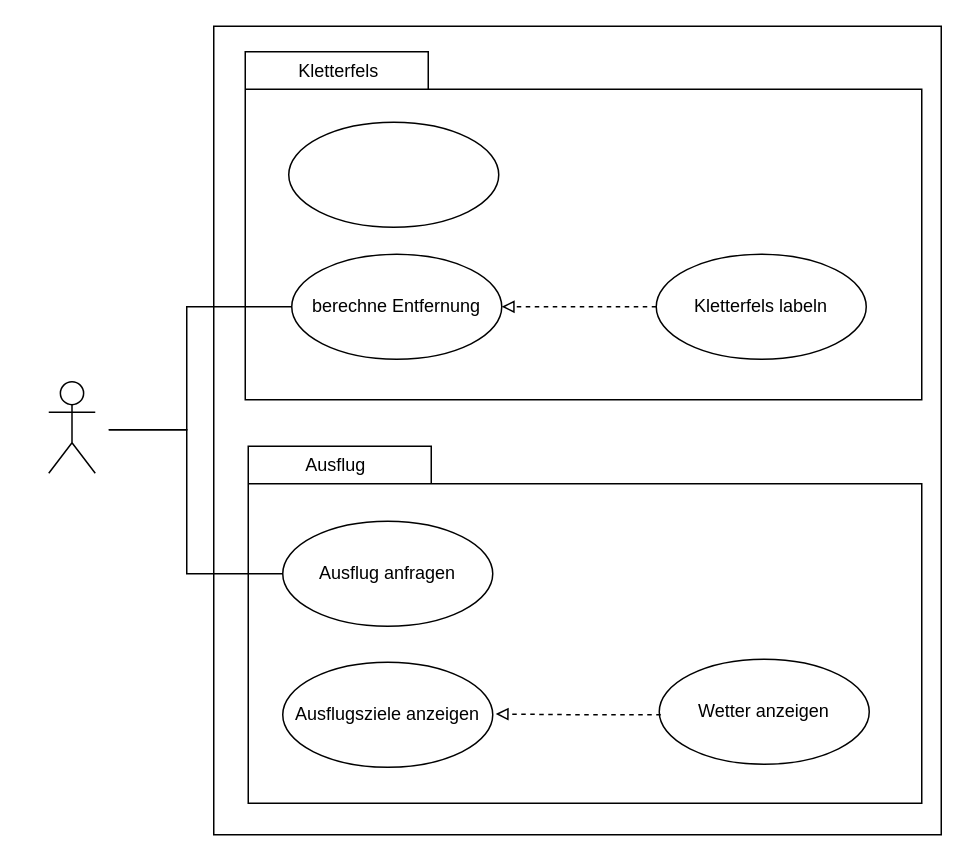
Image size: 968x861. Some labels were removed from this diagram. The shapes that lost their labels are listed below. From the top down, each one's centre as x and y in pixels, then its label:
(393,174): Kletterfels anlegen
(71,426): Benutzer:in
